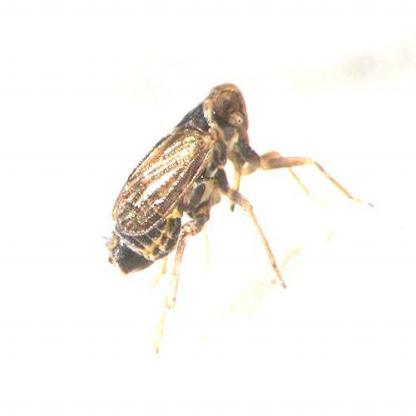brown-planthopper: (103, 74, 283, 282)
